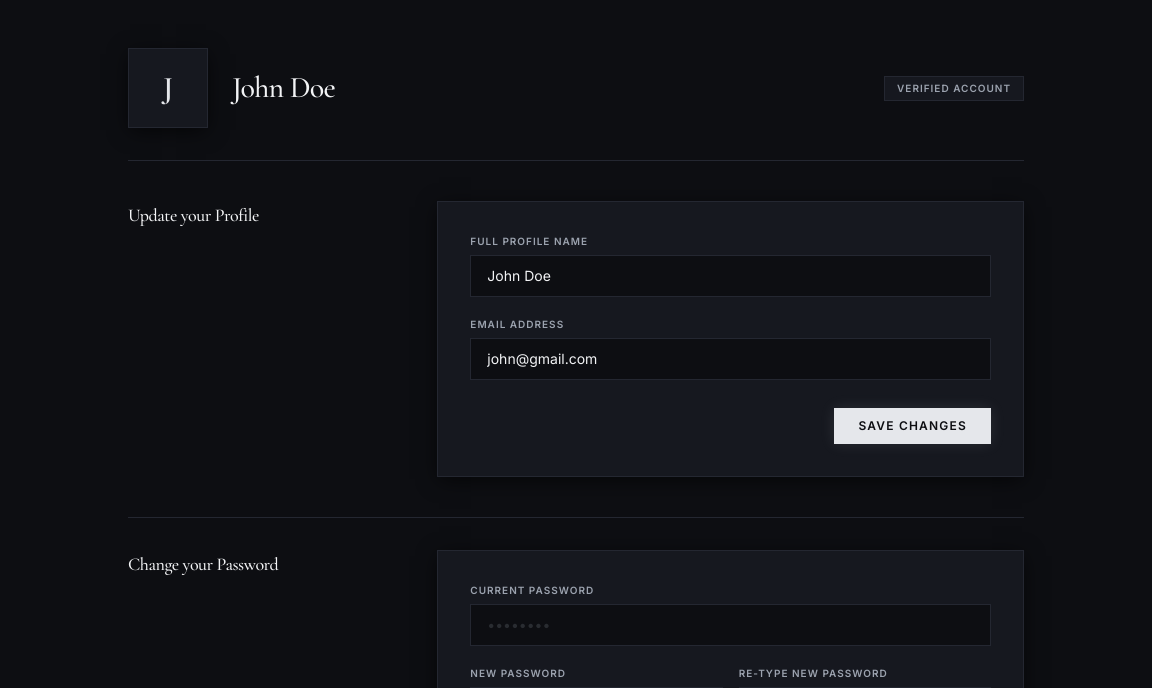
Test: UserProfile Page › should show loading state while saving
Expected: the field showing "John Doe" is shown, [470,255,991,297]
What coordinates should you click on to do the following:
click the button "Save Changes"
I would click on:
 (913, 426)
Its box is [834,408,991,444].
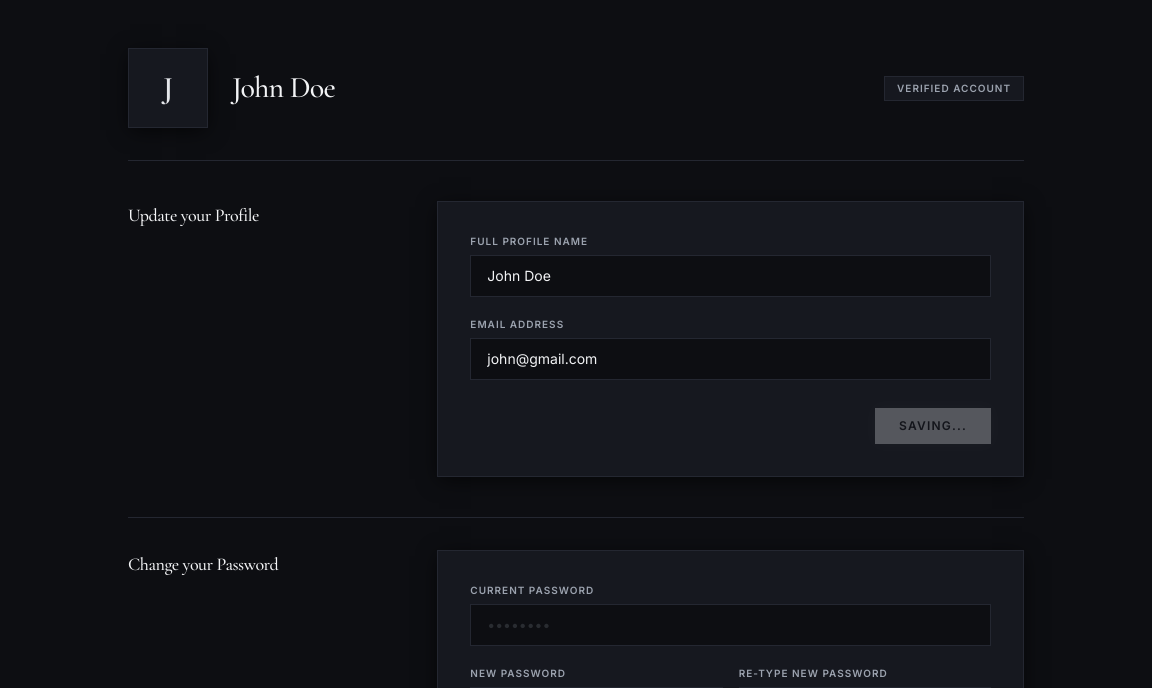
Expected: the button "Saving..." is shown, [875,408,991,444]
